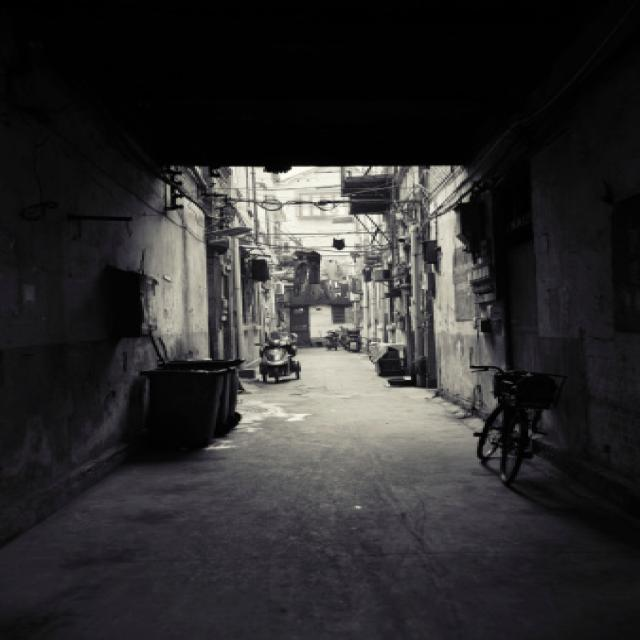Bicycle: (449, 355, 596, 508)
